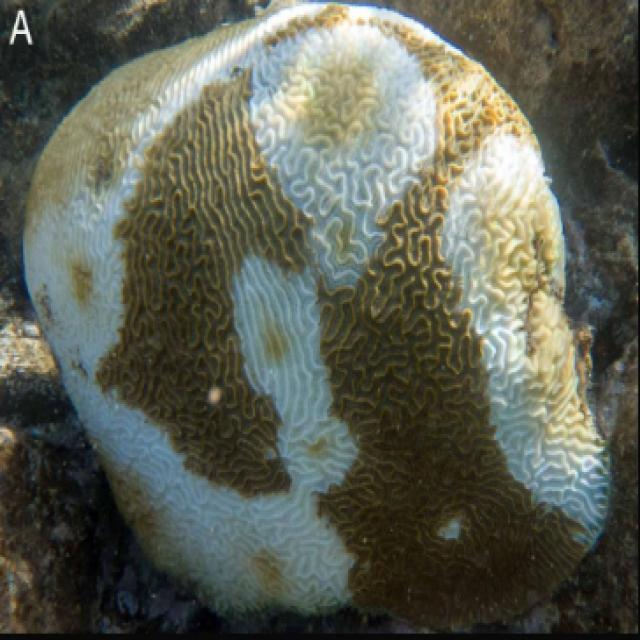Coral: (23, 0, 609, 625)
